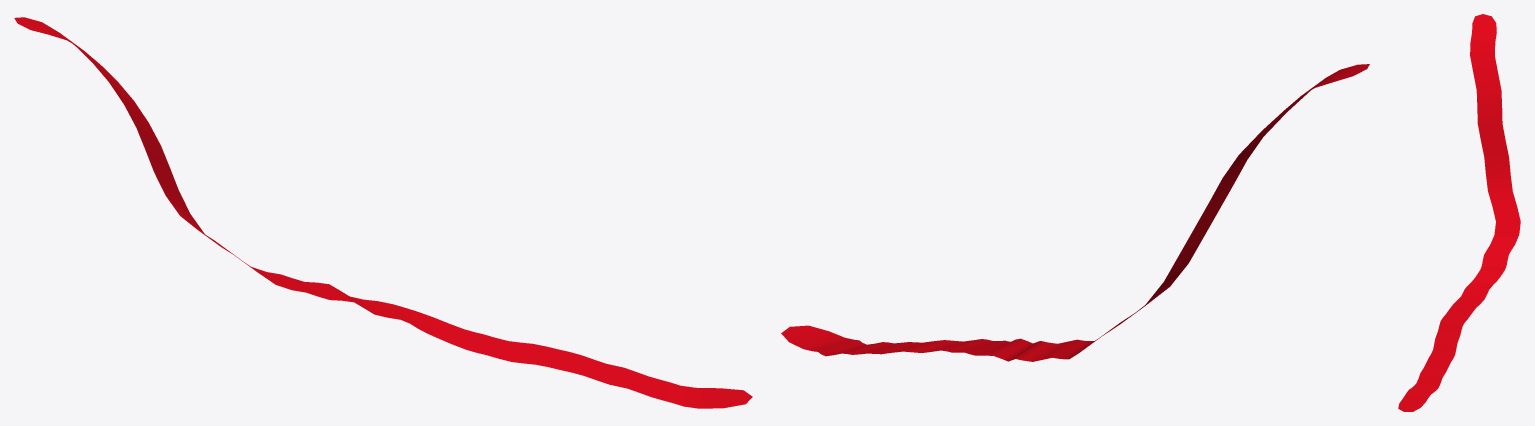
Rendered from hair3.fbx.
3 views of the same model, side by side, from view 1: azimuth 30°, elevation 25°; view 2: azimuth 150°, elevation 25°; view 3: azimuth 270°, elevation 25° (orthographic). The views are drawn at different scales.
Visible parts, largest first — view 1: Plane.005; view 2: Plane.005; view 3: Plane.005.
Part boxes in pixels (bbox=[...]): Plane.005: bbox=[14, 17, 752, 408]; Plane.005: bbox=[781, 64, 1369, 361]; Plane.005: bbox=[1398, 14, 1520, 411].
Size of the model in its own units: 4840 by 3351 by 1566.
